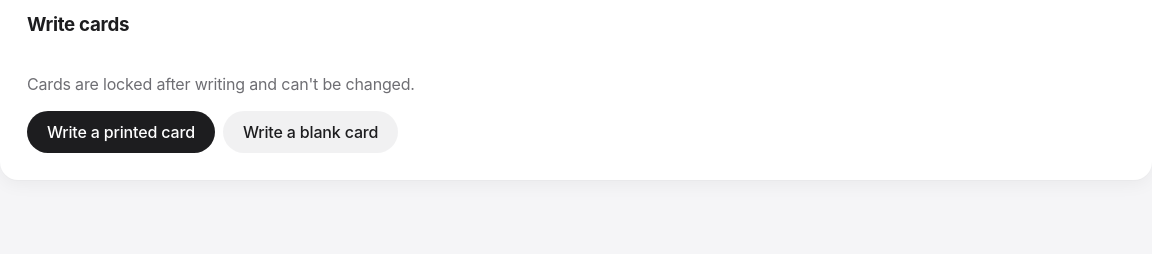
Scenario: WriteCards › writes a blank card as a new card
Click the button "Write a blank card".
click(311, 132)  # box 223,111 -> 398,153
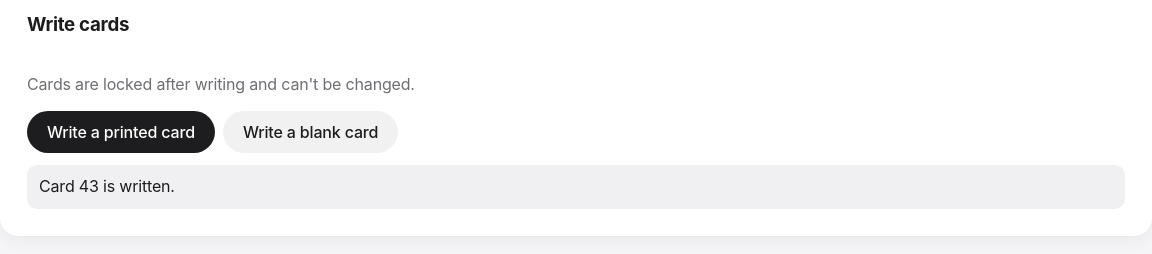
Expected: the message reads "Card 43 is written.", 39,176 -> 175,196
